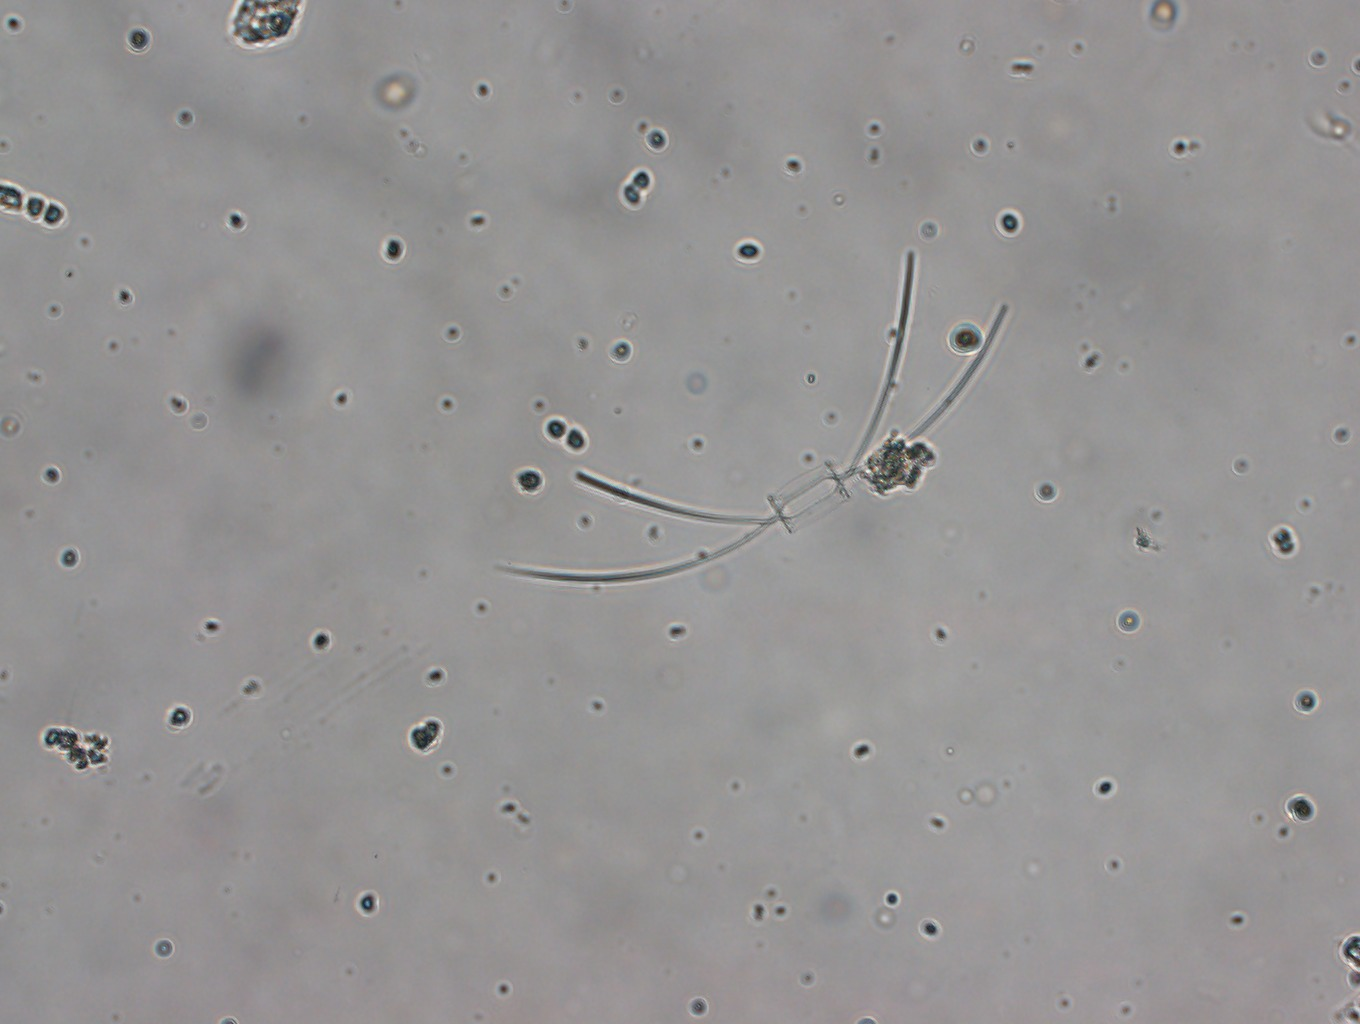chaetoceros: (490, 248, 1008, 585)
